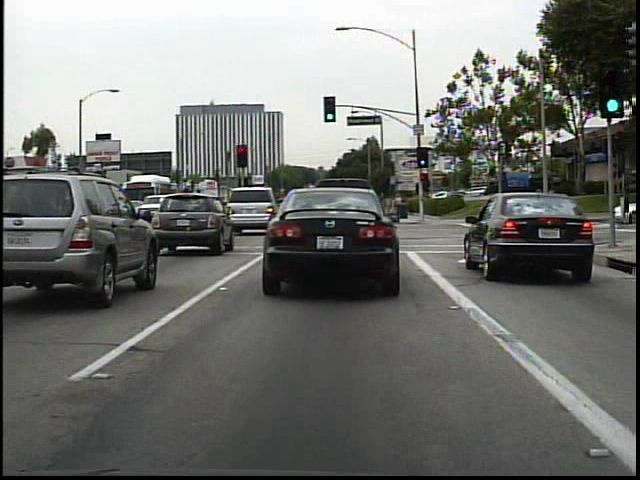person: (391, 188, 409, 219)
